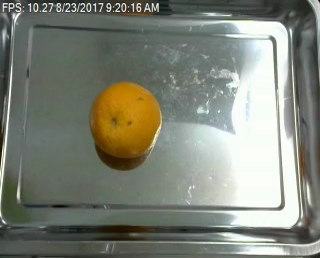Orange: (89, 80, 163, 159)
